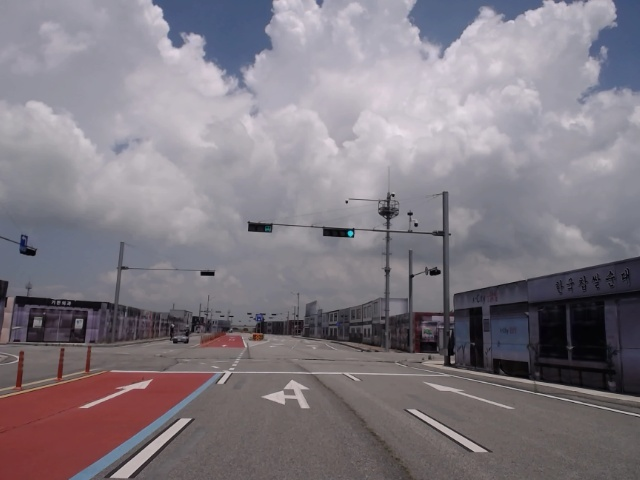straight_green_4: (324, 226, 356, 238)
